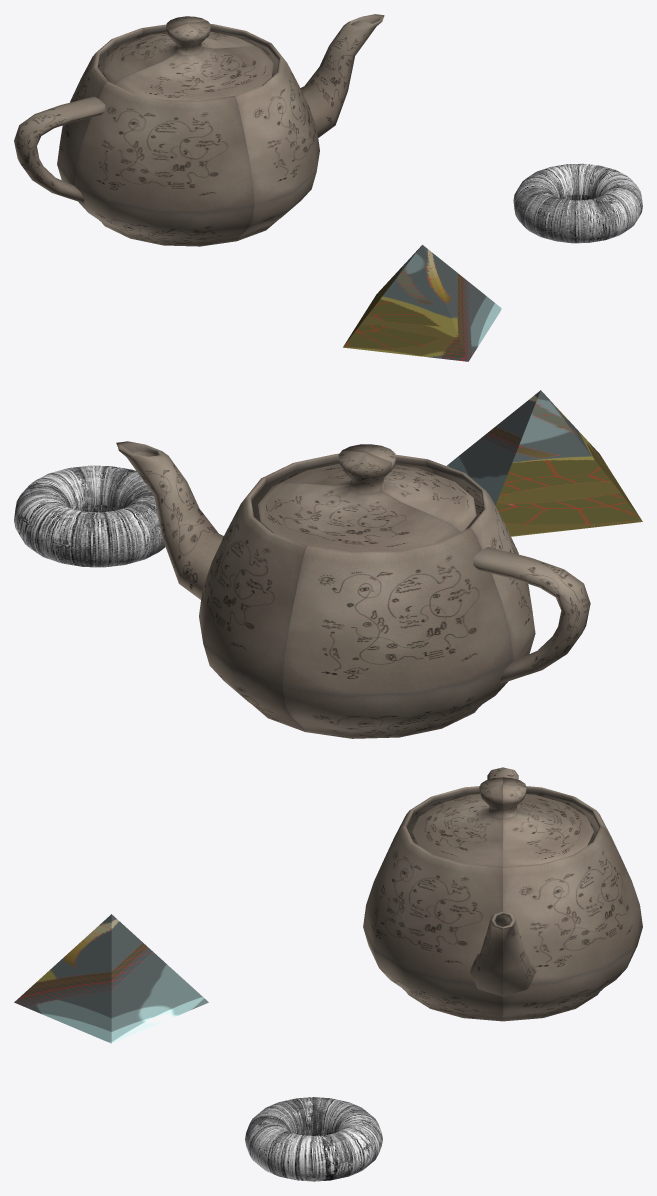
The picture shows the model from 3 angles, top to bottom: view 1: azimuth 30°, elevation 25°; view 2: azimuth 150°, elevation 25°; view 3: azimuth 270°, elevation 25°; orthographic projection. The views are drawn at different scales.
Parts seen in each view (by area): view 1: Teapot001, pPyramid1, pTorus1; view 2: Teapot001, pPyramid1, pTorus1; view 3: Teapot001, pPyramid1, pTorus1.
Part boxes in pixels (box(x1,y1,x2,y2)): Teapot001: box(14, 14, 384, 246); pPyramid1: box(343, 245, 501, 361); pTorus1: box(513, 163, 642, 243); Teapot001: box(116, 441, 590, 738); pPyramid1: box(446, 390, 642, 536); pTorus1: box(14, 465, 165, 567); Teapot001: box(363, 767, 642, 1021); pPyramid1: box(14, 914, 208, 1043); pTorus1: box(245, 1097, 382, 1181).
Bounding box in the file's own units: 14.05 × 5.29 × 13.67.
